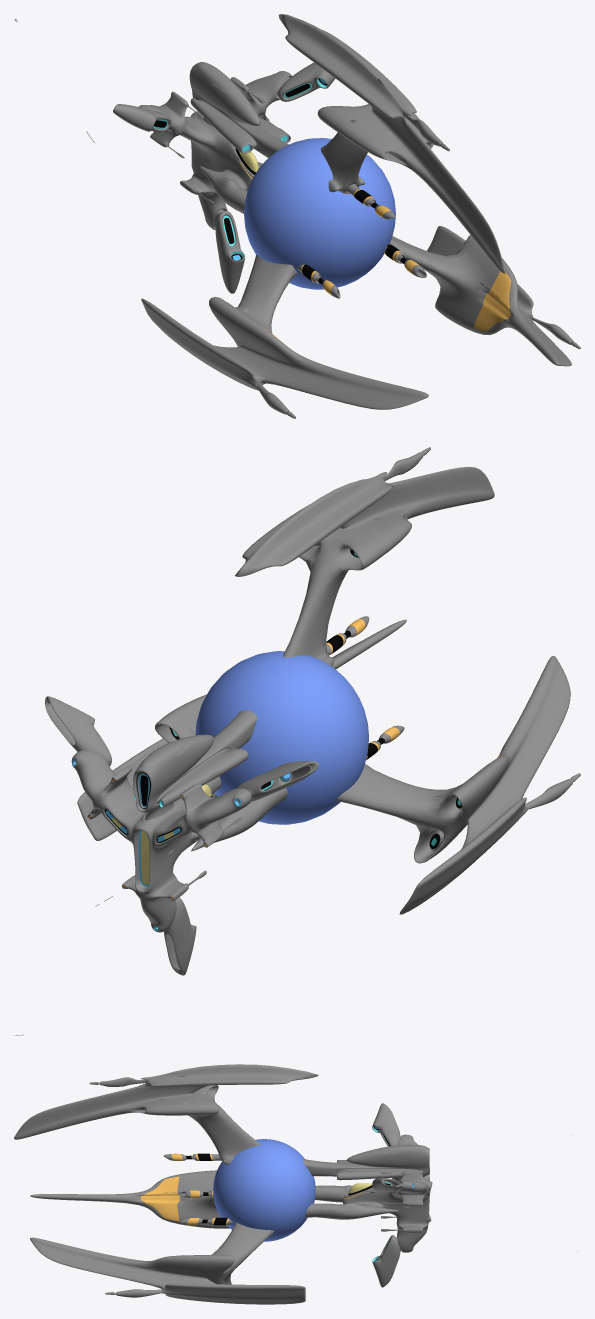
File: AMDD-V2.fbx
The picture shows the model from 3 angles, top to bottom: view 1: azimuth 30°, elevation 25°; view 2: azimuth 150°, elevation 25°; view 3: azimuth 270°, elevation 25°; orthographic projection. The views are drawn at different scales.
Parts seen in each view (by area): view 1: polyToSubd2, E field static; view 2: polyToSubd2, E field static; view 3: polyToSubd2, E field static.
Part boxes in pixels (x1,y1,x2,y2): polyToSubd2: (14, 14, 580, 418); E field static: (244, 138, 395, 289); polyToSubd2: (14, 447, 580, 1035); E field static: (195, 651, 368, 824); polyToSubd2: (14, 1064, 432, 1304); E field static: (213, 1139, 315, 1241).
Bounding box in the file's own units: 2145 × 2217 × 5107.
